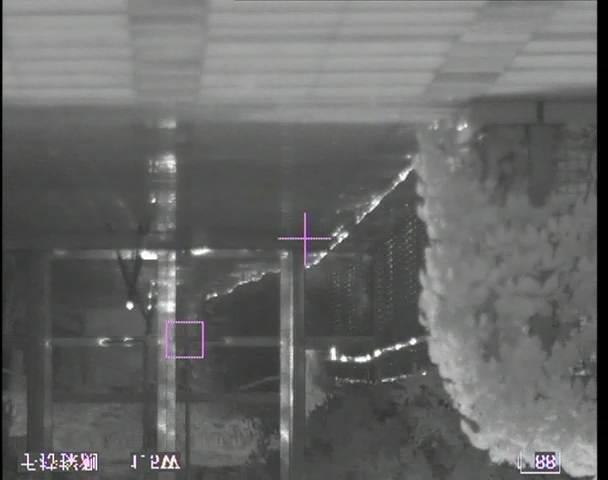my: (124, 300, 136, 311)
